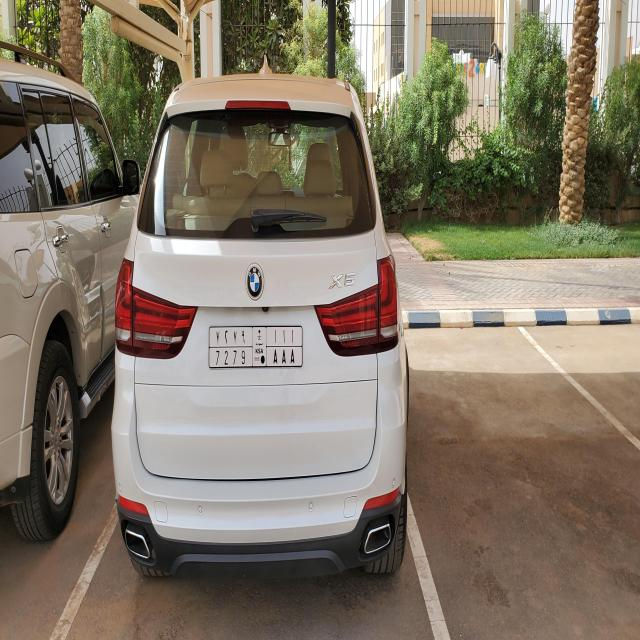license_plate: (208, 326, 302, 369)
